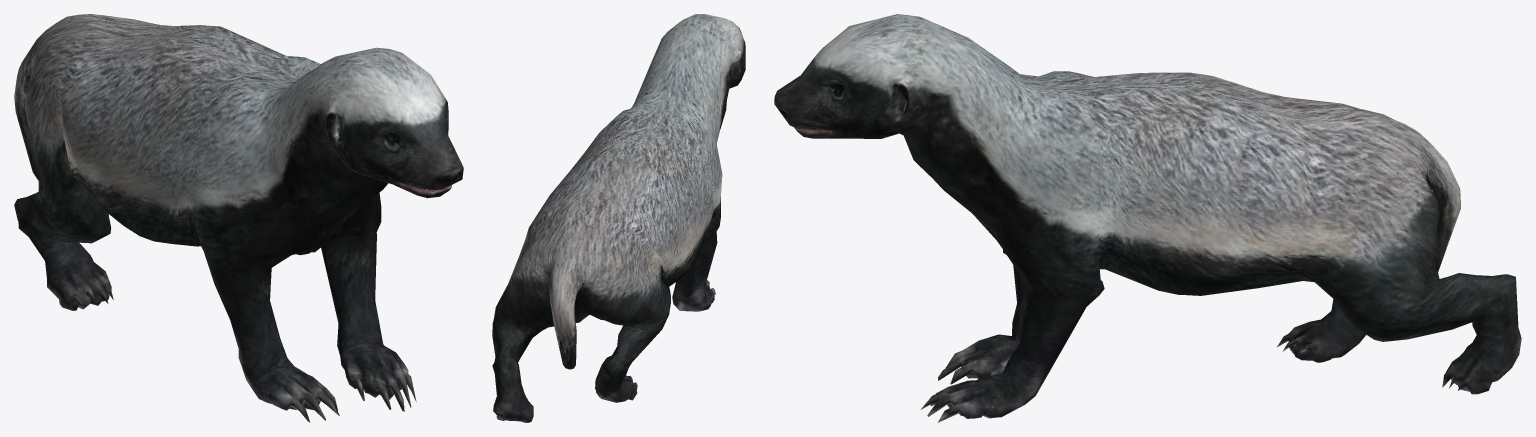
File: badger.glb
3 renders of one model, left to right at view 1: azimuth 30°, elevation 25°; view 2: azimuth 150°, elevation 25°; view 3: azimuth 270°, elevation 25°, orthographic. The views are drawn at different scales.
Visible parts, largest first — view 1: Badger001_applied_clean_M_Honey_Badger_0_M_Honey_Badger_0; view 2: Badger001_applied_clean_M_Honey_Badger_0_M_Honey_Badger_0; view 3: Badger001_applied_clean_M_Honey_Badger_0_M_Honey_Badger_0.
Part boxes in pixels (<box>): Badger001_applied_clean_M_Honey_Badger_0_M_Honey_Badger_0: <box>14,14,463,422</box>; Badger001_applied_clean_M_Honey_Badger_0_M_Honey_Badger_0: <box>492,14,745,422</box>; Badger001_applied_clean_M_Honey_Badger_0_M_Honey_Badger_0: <box>774,14,1521,422</box>.
Size of the model in its own units: 0.3098 by 0.5074 by 0.9098.
Materials: 1 (1 with a texture image).
